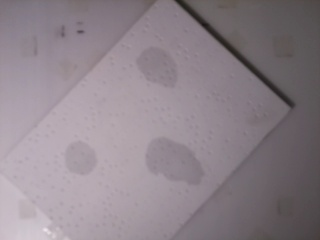Water_detected: (154, 147, 198, 190), (143, 47, 176, 84), (74, 144, 99, 169)
